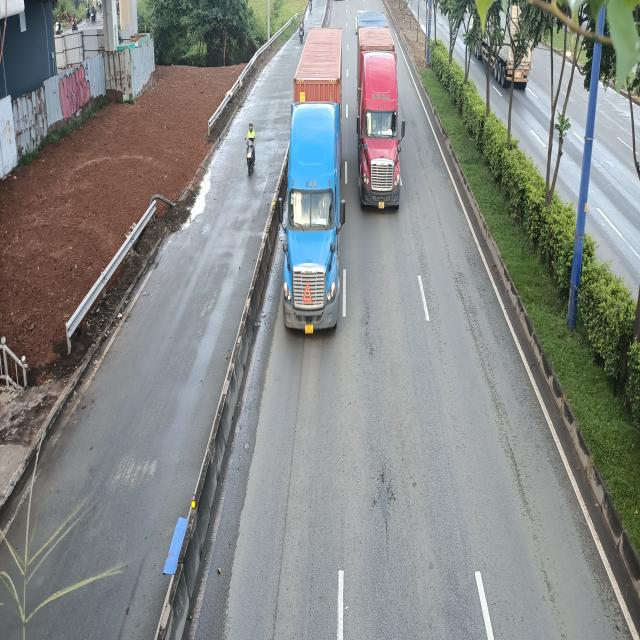container: (278, 26, 348, 335), (354, 12, 404, 212)
